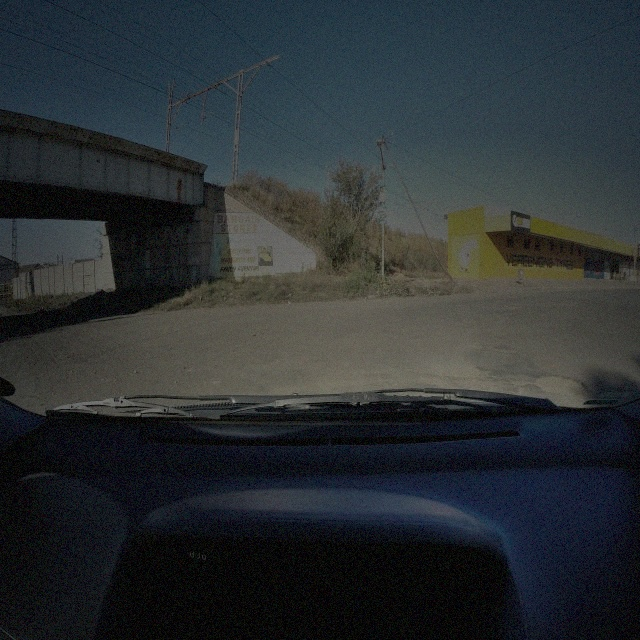pothole: (534, 371, 588, 396), (494, 347, 518, 356), (504, 302, 524, 312)
